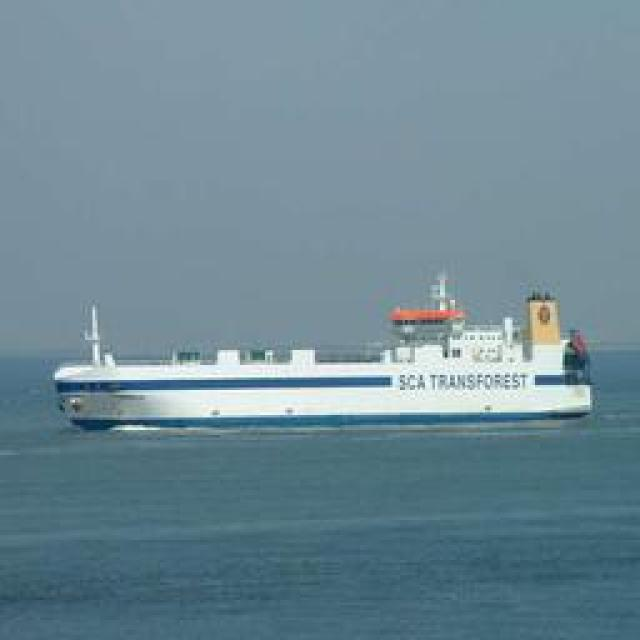Ship: (38, 279, 593, 432)
